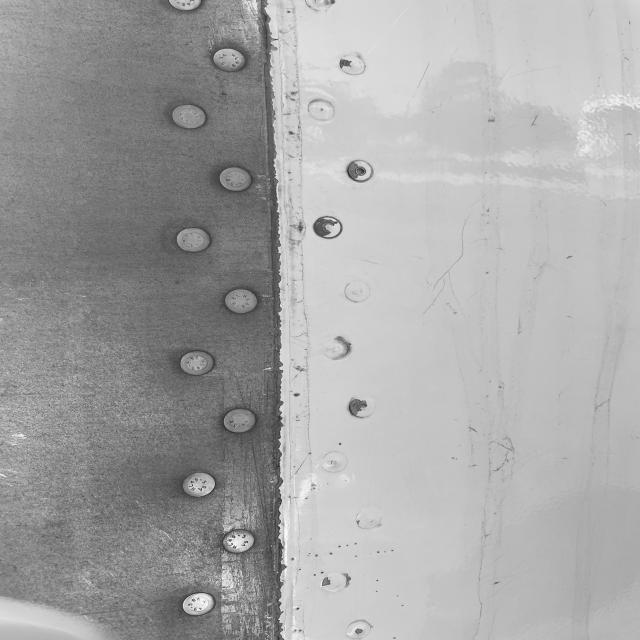crack: (430, 223, 480, 331), (488, 434, 534, 486)
